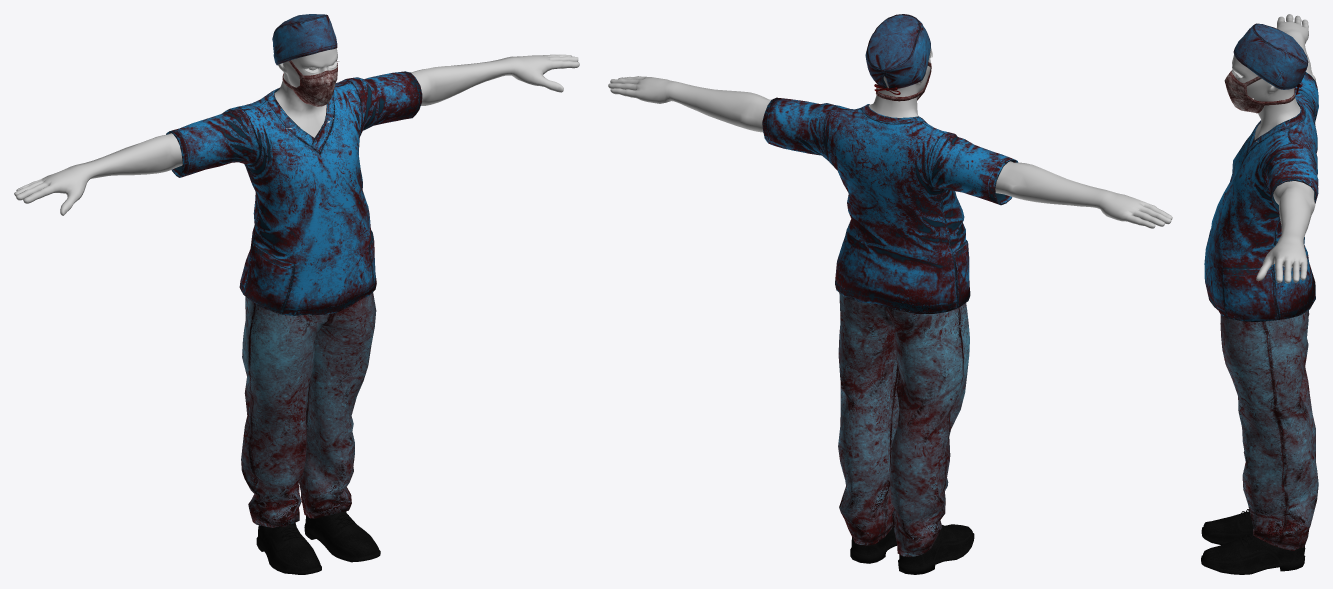
Rendered from Doctor Character glTF.gltf.
The picture shows the model from 3 angles, left to right: view 1: azimuth 30°, elevation 25°; view 2: azimuth 150°, elevation 25°; view 3: azimuth 270°, elevation 25°; orthographic projection.
Visible parts, largest first — view 1: Doctor Blender Character Blender; view 2: Doctor Blender Character Blender; view 3: Doctor Blender Character Blender.
Boxes of the visible parts, bbox=[...] form: Doctor Blender Character Blender: bbox=[14, 14, 579, 574]; Doctor Blender Character Blender: bbox=[608, 14, 1172, 574]; Doctor Blender Character Blender: bbox=[1201, 14, 1318, 574].
Bounding box in the file's own units: 195 × 178 × 36.17.
